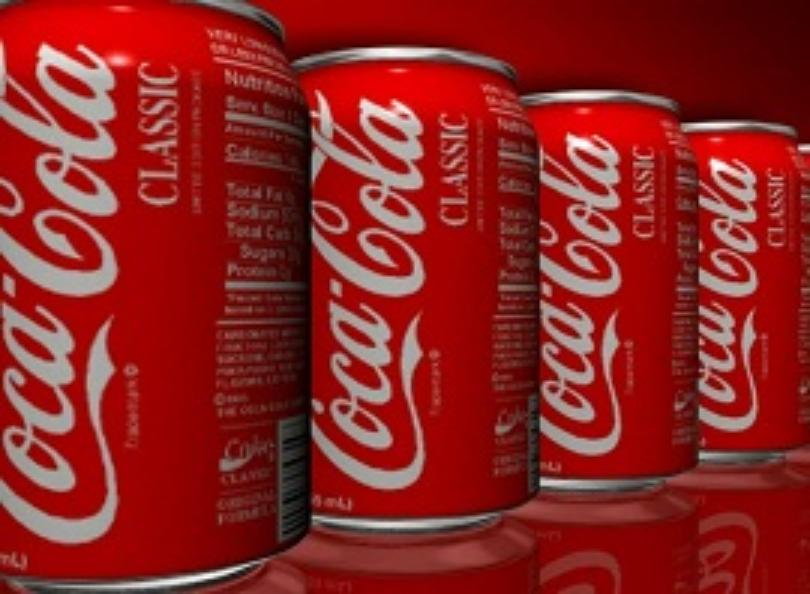coke: (1, 6, 307, 579), (299, 46, 545, 520), (525, 86, 694, 488), (682, 118, 807, 464)
